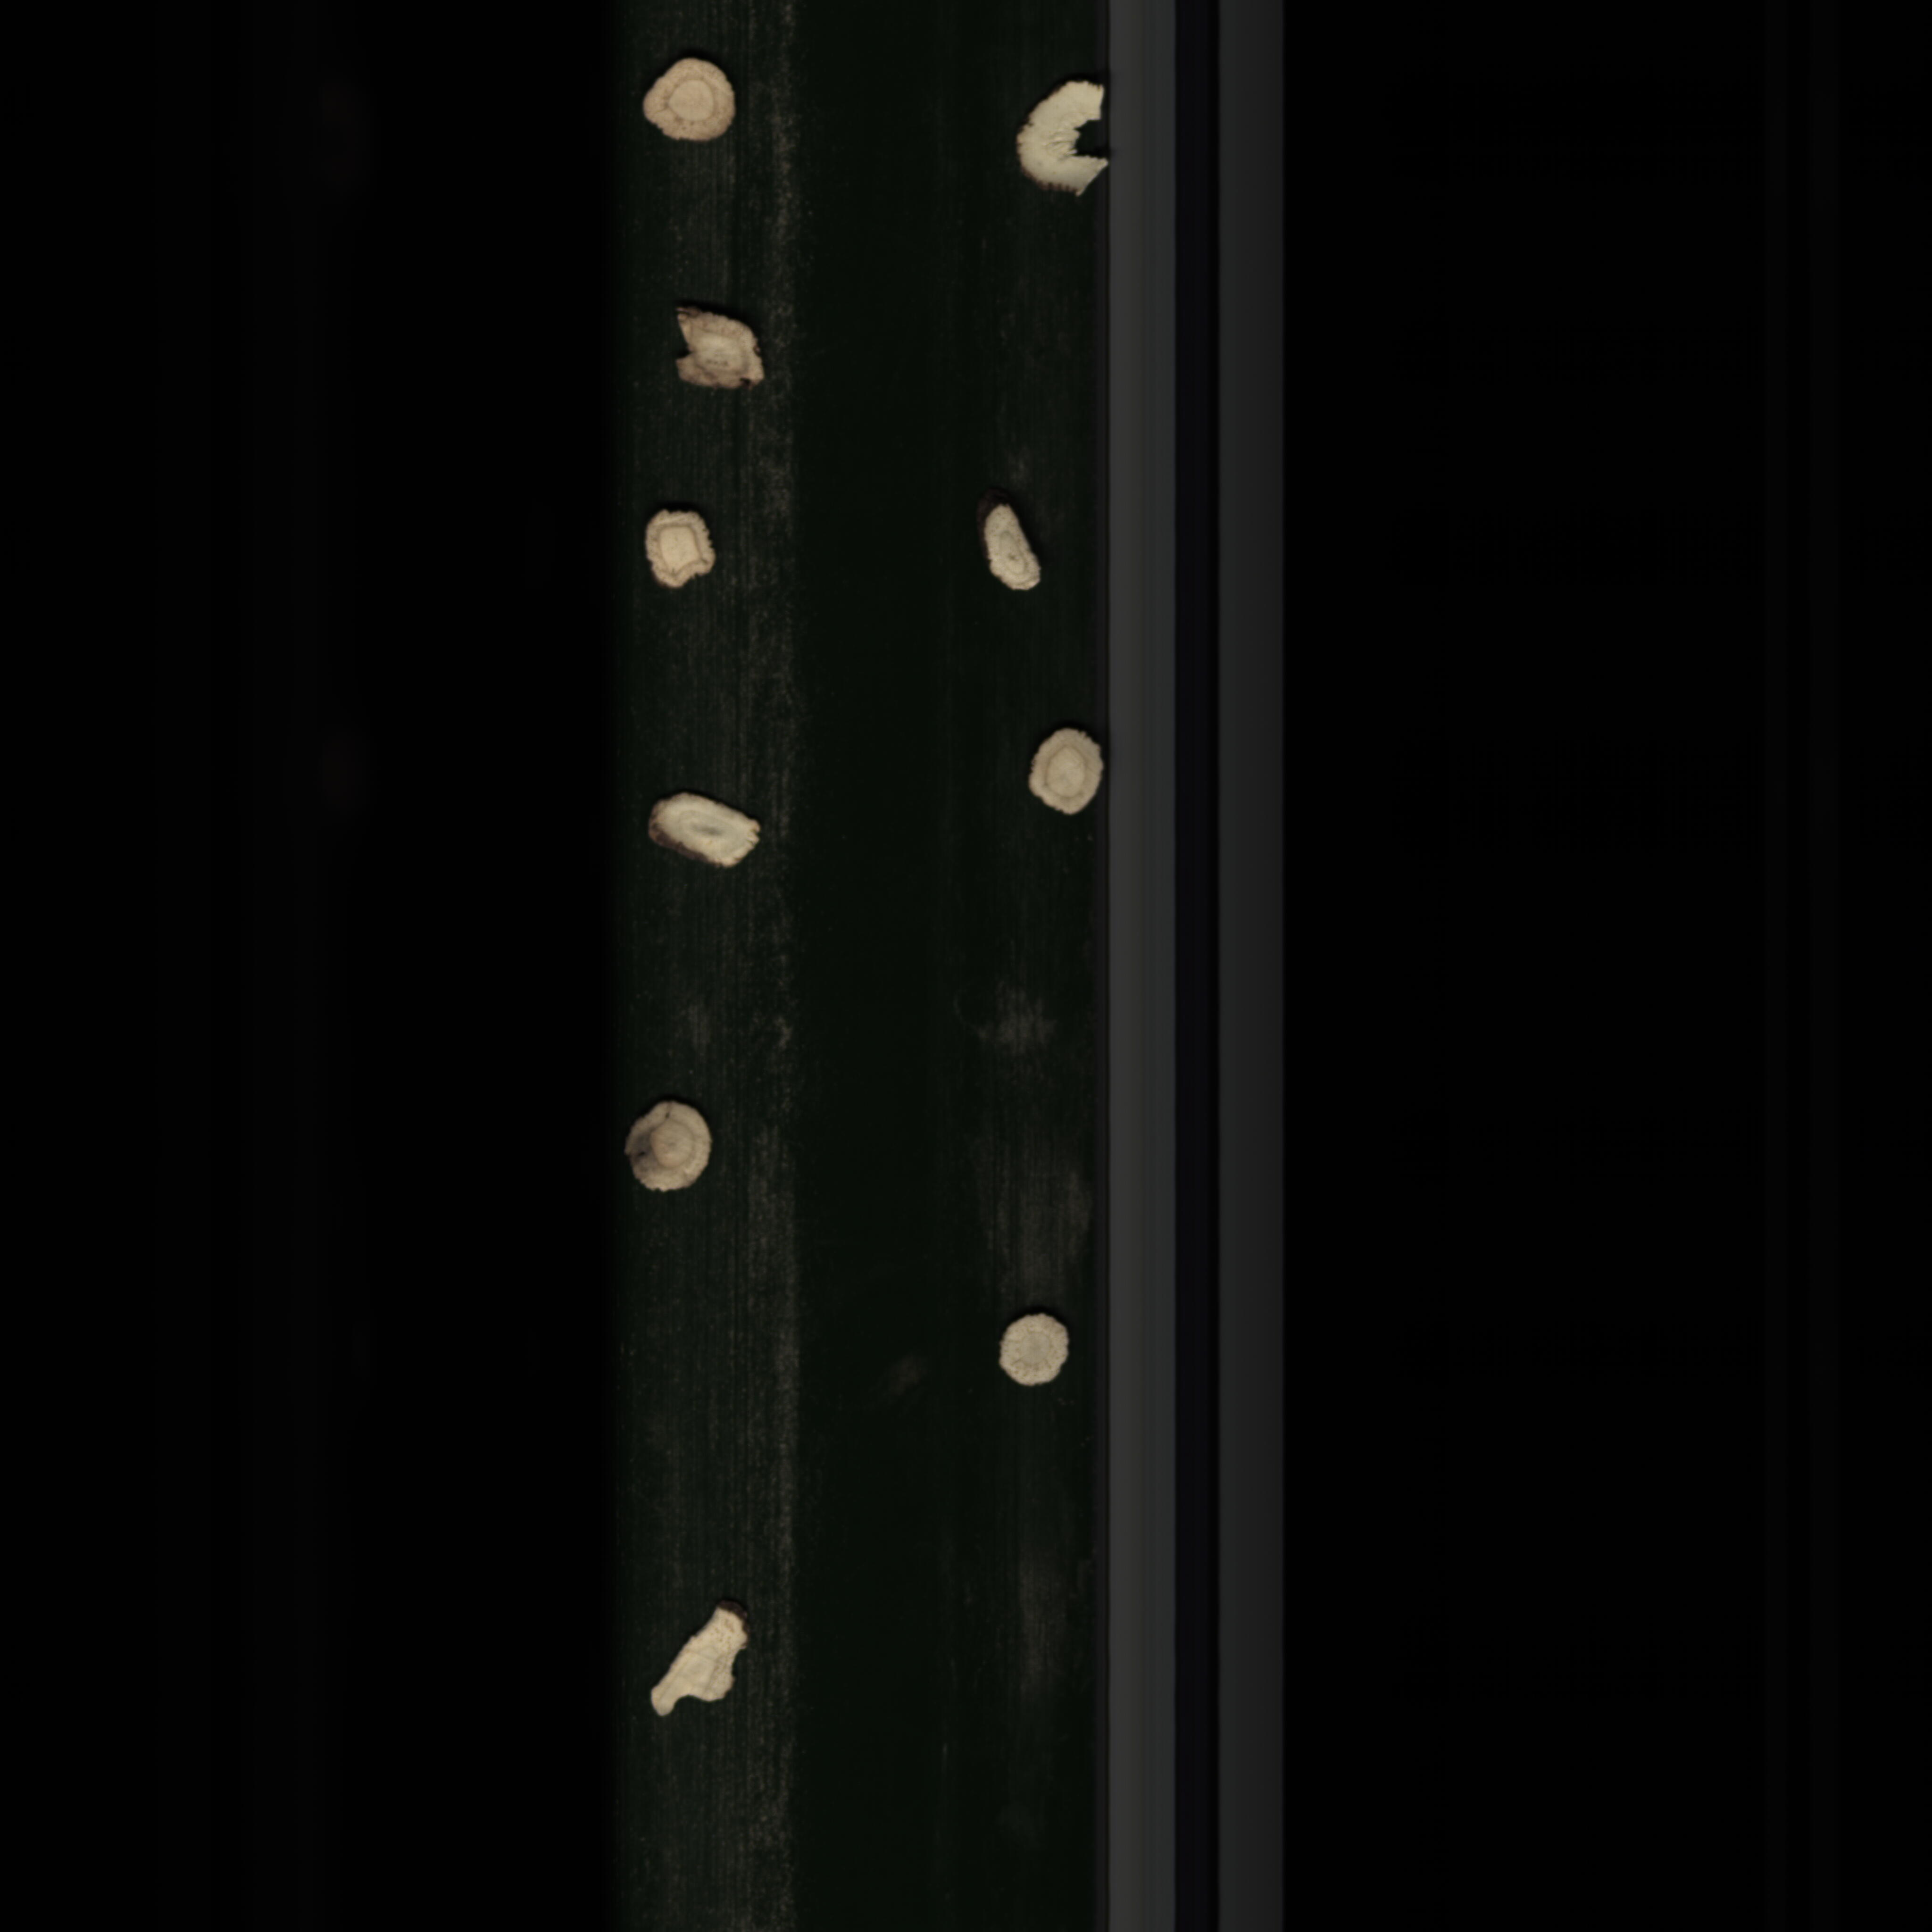bark: (656, 295, 780, 407)
debris: (628, 1596, 759, 1737), (1014, 65, 1132, 209)
distortion: (970, 499, 1046, 607)
moldy: (607, 1088, 720, 1207)
